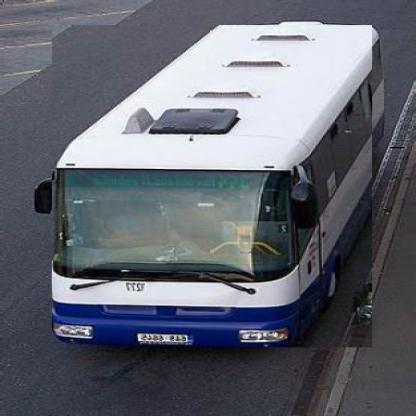bus: (52, 26, 373, 349)
